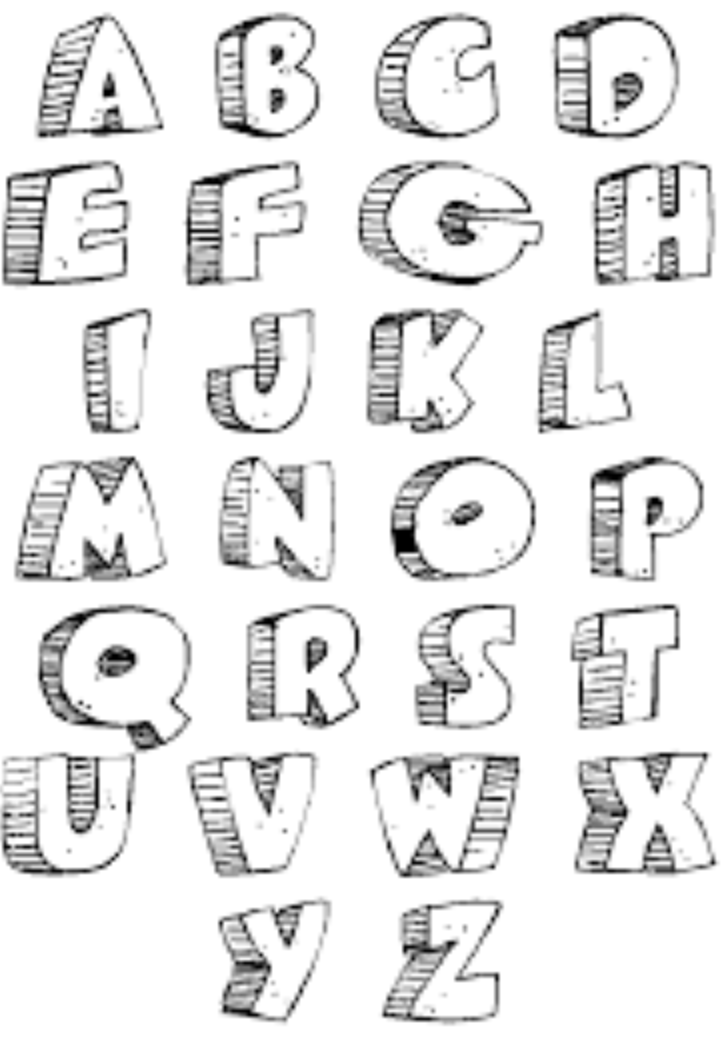A: (33, 7, 172, 144)
B: (203, 12, 336, 141)
C: (373, 10, 515, 141)
D: (550, 12, 692, 145)
E: (3, 161, 140, 287)
F: (186, 160, 310, 286)
G: (355, 152, 550, 290)
H: (591, 157, 718, 291)
I: (76, 300, 167, 437)
J: (203, 300, 320, 443)
K: (362, 303, 495, 432)
L: (531, 306, 647, 435)
M: (15, 453, 173, 596)
N: (211, 450, 340, 582)
O: (388, 454, 542, 585)
P: (585, 453, 709, 586)
Q: (31, 598, 200, 752)
R: (239, 599, 375, 740)
S: (411, 605, 526, 731)
T: (559, 599, 695, 728)
U: (3, 752, 138, 877)
V: (185, 747, 328, 883)
W: (364, 747, 525, 880)
X: (573, 746, 721, 885)
Y: (211, 891, 337, 1028)
Z: (383, 897, 517, 1028)
